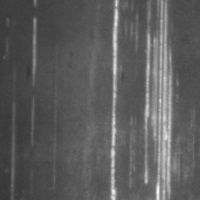scratches: (143, 0, 176, 199), (105, 0, 125, 199), (6, 100, 20, 199), (28, 1, 40, 93)
